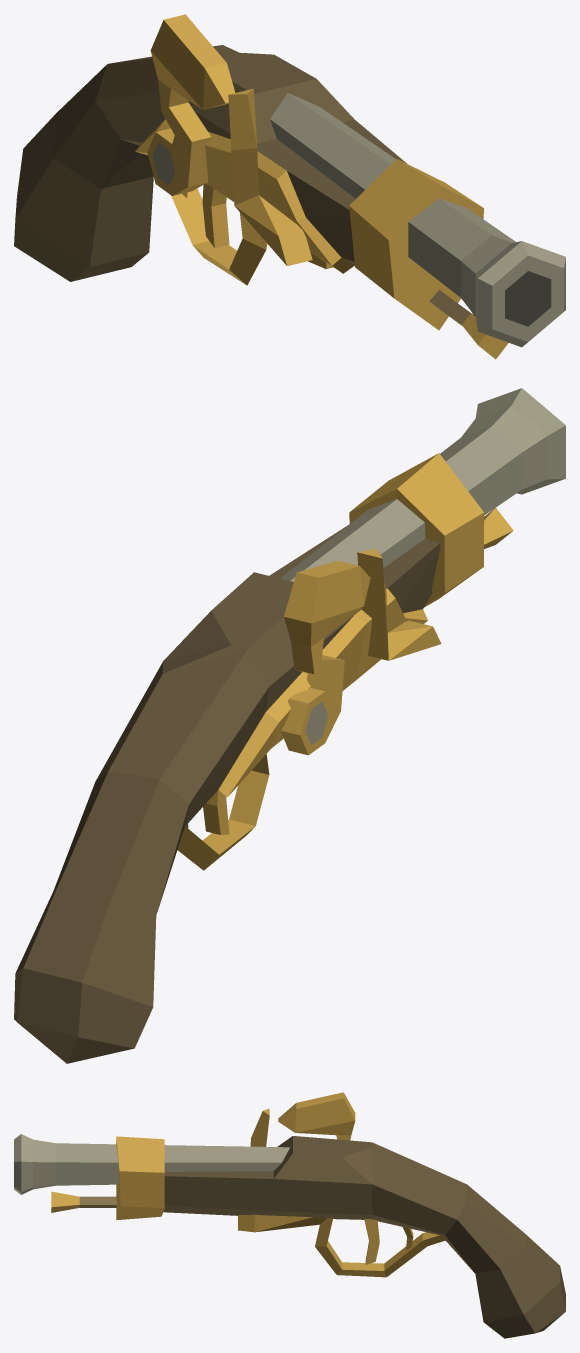
The model's file is Pistol_4.fbx.
3 views of the same model, one above another, from view 1: azimuth 30°, elevation 25°; view 2: azimuth 150°, elevation 25°; view 3: azimuth 270°, elevation 25° (orthographic). The views are drawn at different scales.
Parts seen in each view (by area): view 1: Pistol_4; view 2: Pistol_4; view 3: Pistol_4.
Boxes of the visible parts, left/top/right/bottom form: Pistol_4: left=14, top=14, right=565, bottom=359; Pistol_4: left=14, top=388, right=565, bottom=1063; Pistol_4: left=14, top=1092, right=565, bottom=1338.
Bounding box in the file's own units: 8.37 × 20.21 × 46.65.
